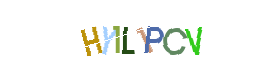1: (86, 0, 166, 80), (102, 0, 182, 80)
C: (118, 0, 198, 80)
H: (51, 0, 131, 80)
L: (99, 0, 179, 80)
P: (112, 0, 192, 80)
V: (155, 0, 235, 80)
Y: (86, 0, 166, 80)
